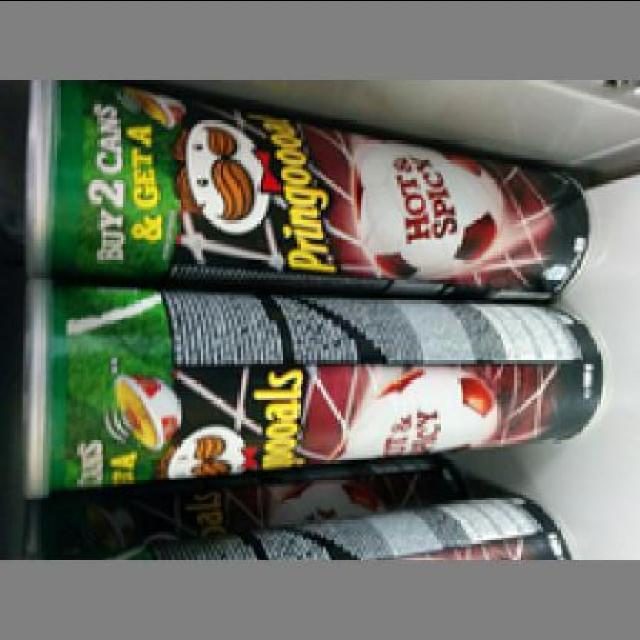Chips: (17, 294, 600, 503), (20, 86, 583, 297)
